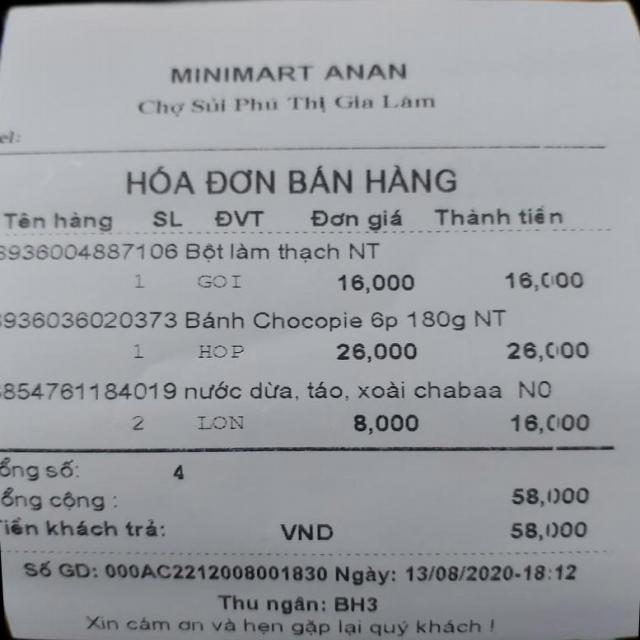Date: (405, 561, 516, 586)
Store_Name: (129, 59, 418, 97)
Total_Amount: (0, 480, 606, 515)
